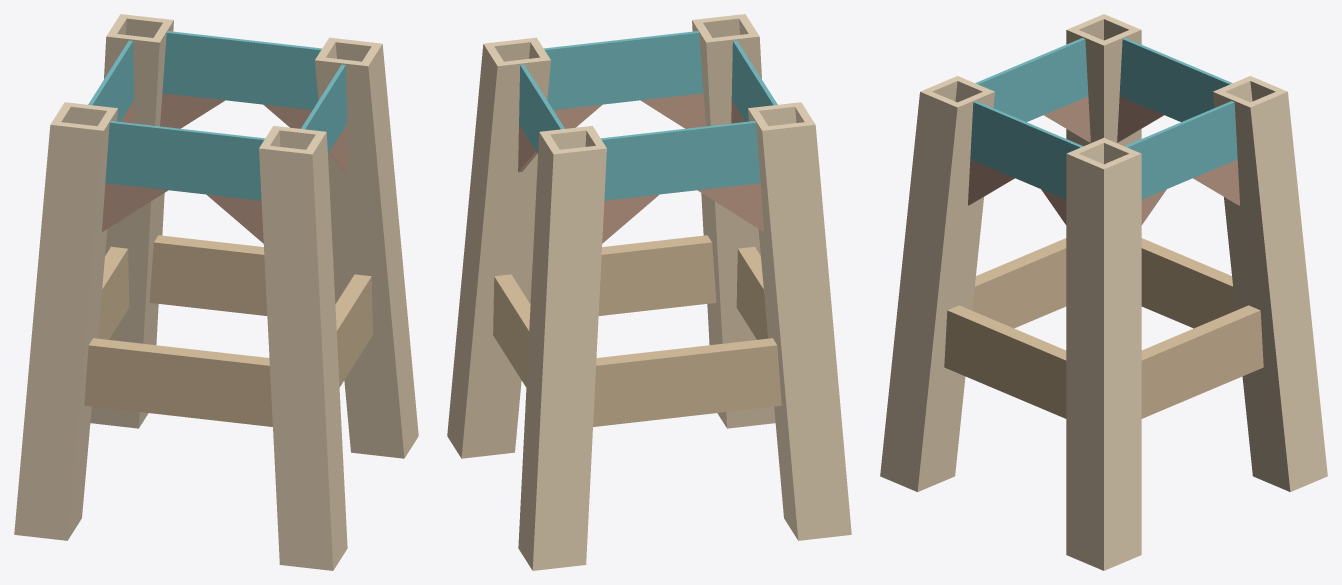
Rendered from R21_DISPLAY_CONCEPT.glb.
3 views of the same model, side by side, from view 1: azimuth 30°, elevation 25°; view 2: azimuth 150°, elevation 25°; view 3: azimuth 270°, elevation 25° (orthographic). The views are drawn at different scales.
Parts seen in each view (by area): view 1: A01_LEG1_NEG_P1, A02_LEG4_NEG_P1, A02_LEG2_POS_P1, C01_SIDE4_1_P1, B01_SIDE4_1_P1, B01_SIDE2_1_P1, C01_SIDE2_2_P2, A01_LEG2_NEG_P1, A01_LEG3_POS_P1, A02_LEG1_NEG_P1, A01_LEG4_POS_P1, C01_SIDE1_1_P1 (+24 smaller); view 2: A01_LEG4_NEG_P1, A02_LEG3_NEG_P1, A01_LEG2_POS_P1, C01_SIDE3_1_P1, B01_SIDE3_1_P1, B01_SIDE1_1_P1, C01_SIDE1_2_P2, A01_LEG3_NEG_P1, A02_LEG2_NEG_P1, A02_LEG1_POS_P1, A02_LEG4_POS_P1, A01_LEG1_POS_P1 (+24 smaller); view 3: A01_LEG2_NEG_P1, A01_LEG3_NEG_P1, A02_LEG1_NEG_P1, A02_LEG2_NEG_P1, A01_LEG1_POS_P1, A02_LEG3_POS_P1, C01_SIDE1_1_P1, C01_SIDE2_1_P1, B01_SIDE1_1_P1, B01_SIDE2_1_P1, B01_SIDE3_1_P1, B01_SIDE4_1_P1 (+25 smaller).
Part boxes in pixels (x1,y1,x2,y2): A01_LEG1_NEG_P1: (259, 146, 334, 570); A02_LEG4_NEG_P1: (21, 124, 97, 539); A02_LEG2_POS_P1: (323, 59, 398, 457); C01_SIDE4_1_P1: (84, 343, 272, 426); B01_SIDE4_1_P1: (105, 121, 264, 200); B01_SIDE2_1_P1: (162, 31, 321, 109); C01_SIDE2_2_P2: (149, 240, 336, 315); A01_LEG2_NEG_P1: (364, 43, 418, 458); A01_LEG3_POS_P1: (90, 34, 160, 428); A02_LEG1_NEG_P1: (311, 135, 345, 566); A01_LEG4_POS_P1: (63, 107, 117, 540); C01_SIDE1_1_P1: (336, 275, 372, 386); A01_LEG4_NEG_P1: (761, 123, 851, 540); A02_LEG3_NEG_P1: (535, 147, 602, 569); A01_LEG2_POS_P1: (460, 58, 550, 458); C01_SIDE3_1_P1: (593, 343, 781, 426); B01_SIDE3_1_P1: (601, 121, 760, 200); B01_SIDE1_1_P1: (544, 31, 703, 109); C01_SIDE1_2_P2: (529, 240, 716, 315); A01_LEG3_NEG_P1: (518, 131, 557, 570); A02_LEG2_NEG_P1: (449, 47, 499, 454); A02_LEG1_POS_P1: (709, 35, 771, 427); A02_LEG4_POS_P1: (750, 111, 795, 536); A01_LEG1_POS_P1: (692, 19, 731, 428); A01_LEG2_NEG_P1: (1066, 152, 1106, 570); A01_LEG3_NEG_P1: (1247, 90, 1327, 491); A02_LEG1_NEG_P1: (886, 93, 953, 489); A02_LEG2_NEG_P1: (1101, 155, 1141, 568); A01_LEG1_POS_P1: (914, 90, 994, 491); A02_LEG3_POS_P1: (1219, 93, 1285, 489); C01_SIDE1_1_P1: (944, 309, 1066, 418); C01_SIDE2_1_P1: (1141, 309, 1263, 418); B01_SIDE1_1_P1: (970, 101, 1083, 199); B01_SIDE2_1_P1: (1124, 101, 1237, 199); B01_SIDE3_1_P1: (1119, 38, 1232, 121); B01_SIDE4_1_P1: (975, 38, 1088, 121).
Bounding box in the file's own units: 0.4221 × 0.4 × 0.4221.
